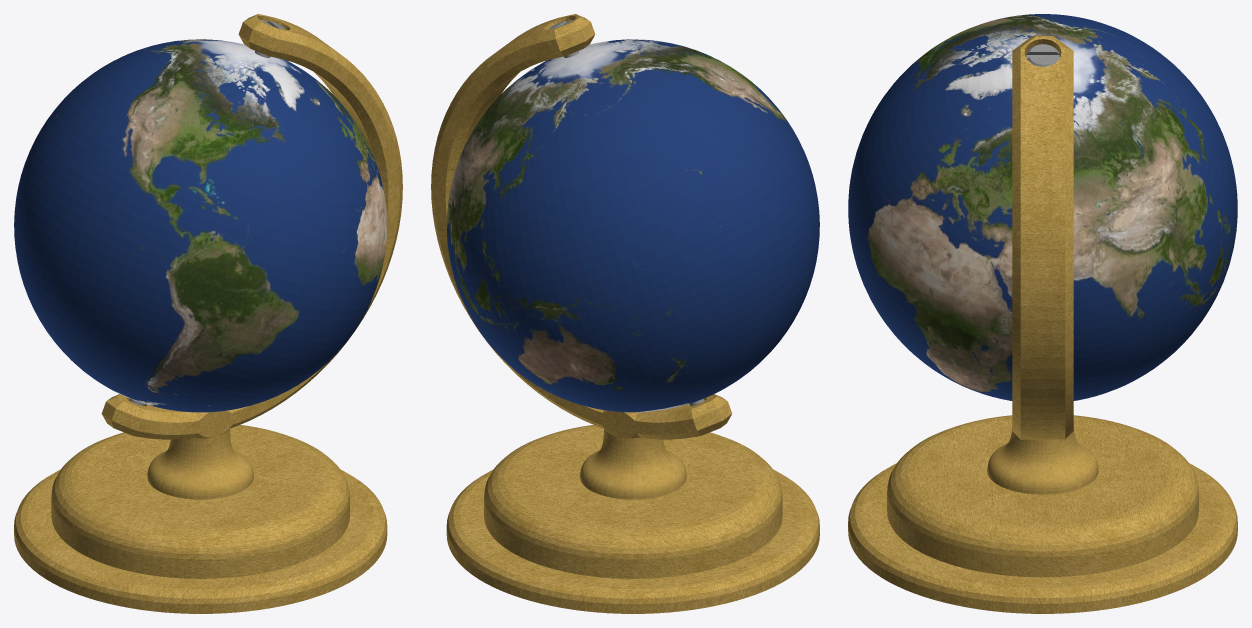
The model's file is Mundo.glb.
3 renders of one model, left to right at view 1: azimuth 30°, elevation 25°; view 2: azimuth 150°, elevation 25°; view 3: azimuth 270°, elevation 25°, orthographic. The views are drawn at different scales.
Visible parts, largest first — view 1: Earth, Base, Arc, Pivot; view 2: Earth, Base, Arc, Pivot; view 3: Earth, Base, Arc, Pivot, Screw 3.
Boxes of the visible parts, x1,y1,x2,y2 form: Earth: (14,39,387,412); Base: (14,425,387,613); Arc: (101,14,402,441); Pivot: (147,430,253,499); Earth: (446,39,819,412); Base: (446,425,819,613); Arc: (431,14,732,441); Pivot: (580,430,686,499); Earth: (848,14,1237,400); Base: (848,415,1237,613); Arc: (1012,35,1073,439); Pivot: (987,427,1098,494); Screw 3: (1026,44,1059,66).
Bounding box in the file's own units: 0.0765 × 0.1039 × 0.07.
3 materials, 3 textured.
